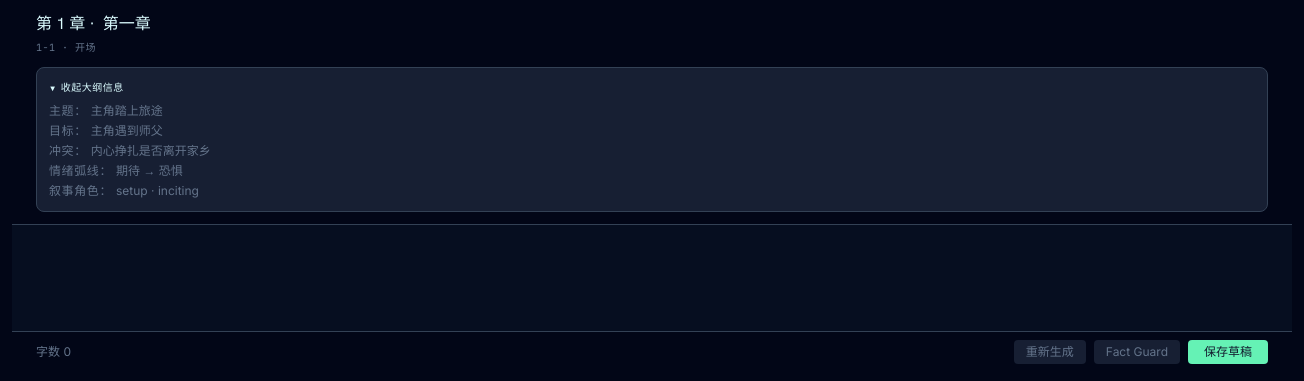
Test: WritingArea › 点击切换按钮收起大纲信息块，再次点击展开
Click the button with test id "writing-outline-toggle". click: click(92, 88)
box: [49,80,1255,95]
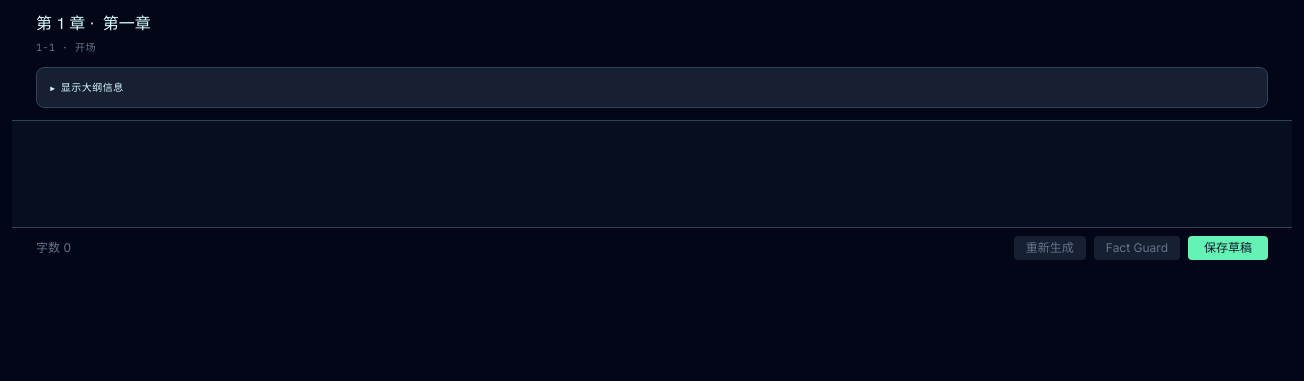
Expected: the element with test id "writing-chapter-theme" is gone
Expected: the button with test id "writing-outline-toggle" is collapsed
Click the button with test id "writing-outline-toggle". click: click(92, 88)
box: [49,80,1255,95]
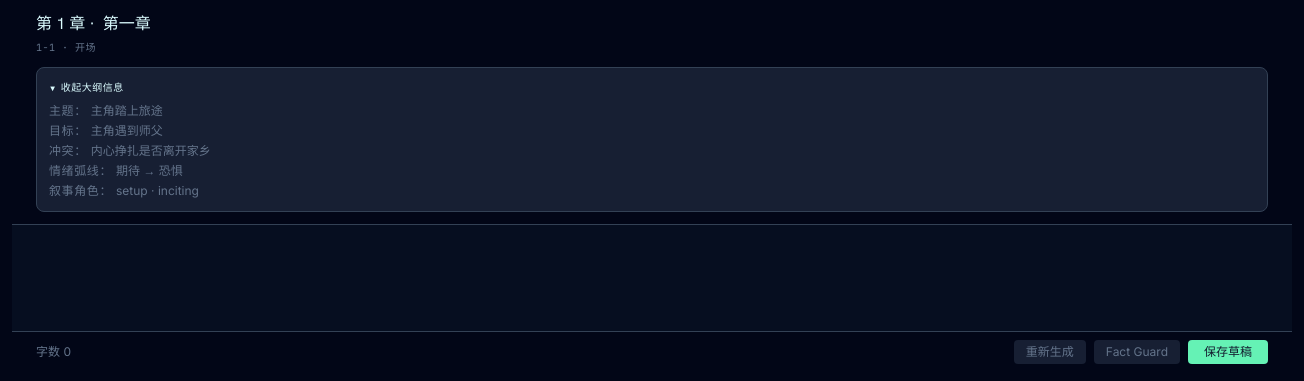
Expected: the element with test id "writing-chapter-theme" is shown, [49,103,163,119]
Expected: the button with test id "writing-outline-toggle" is expanded, [49,80,1255,95]
